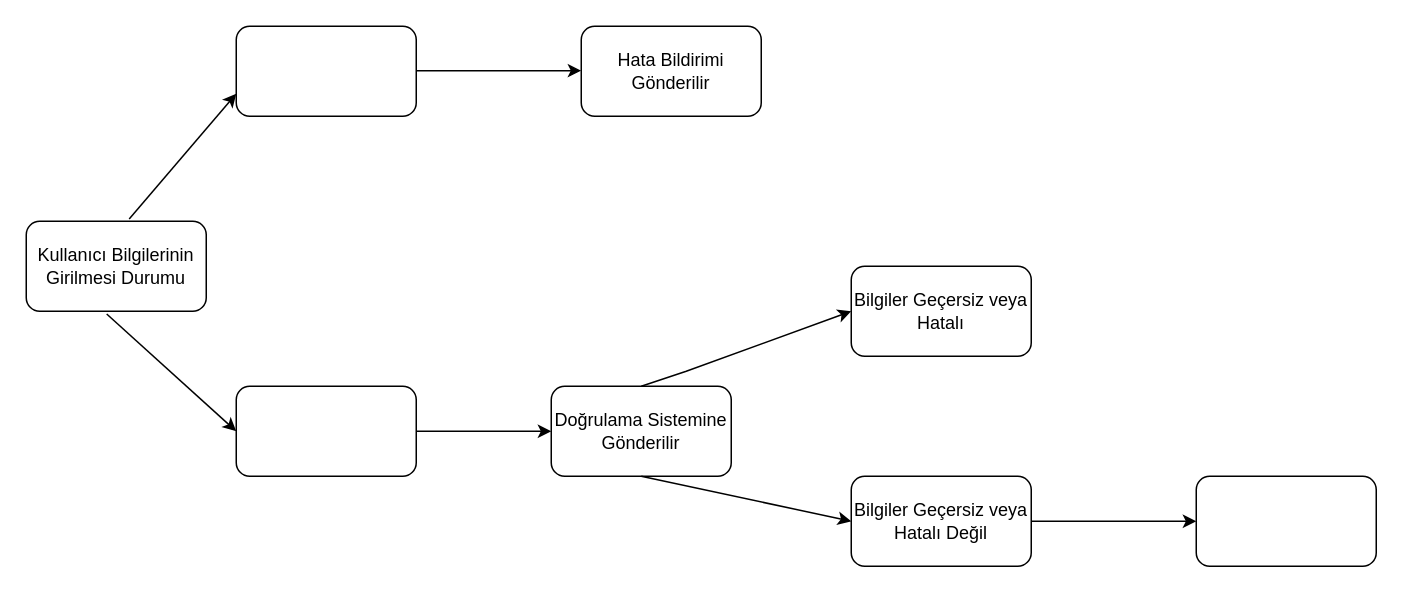
Some shapes in this 1403 by 593 pixel diagram are drawn without their labels. The shapes that lost their labels are listed below. From the top down, each one's box as (x1, y1, x2, y2) in pixels, then its label:
(235, 25, 416, 116): Bilgiler Eksik
(235, 385, 416, 476): Bilgiler Eksik Değil
(1195, 475, 1376, 566): Onay Bildirimi Gönderilir
